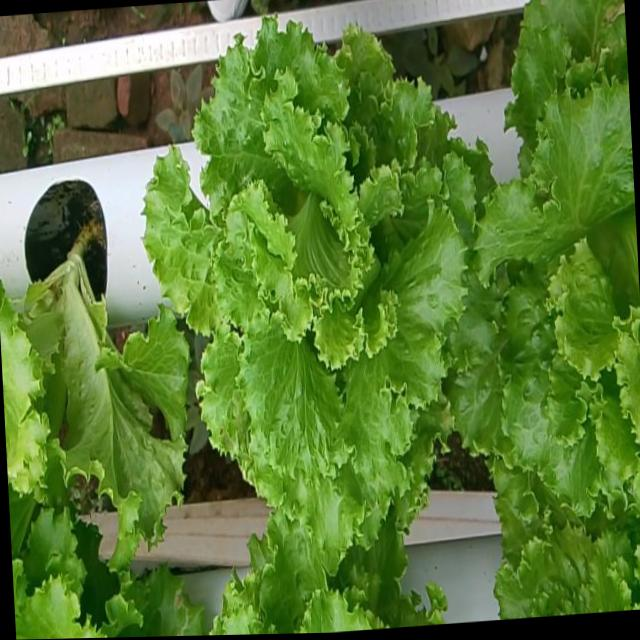Mature: (136, 17, 469, 552), (445, 66, 640, 513)
